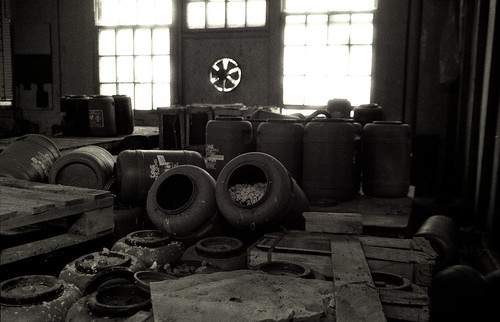trash: (1, 99, 470, 318)
window: (282, 1, 368, 102), (94, 1, 175, 106), (188, 1, 268, 32)
